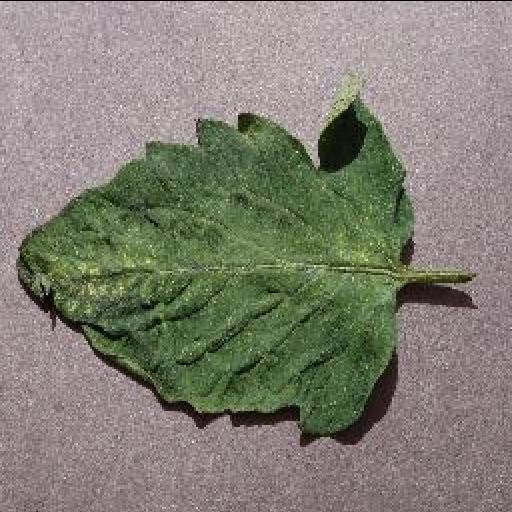disease_tomato: (16, 86, 414, 438)
